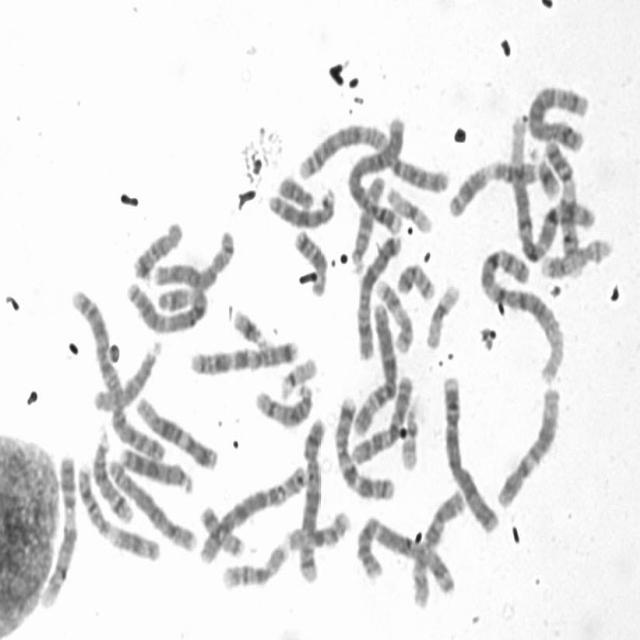A1: (476, 240, 567, 385), (506, 108, 589, 264)
A2: (65, 281, 169, 463), (295, 118, 452, 194)
A3: (354, 509, 458, 598), (122, 275, 210, 335)
B4: (438, 368, 502, 534), (344, 112, 407, 246)
B5: (294, 410, 328, 585), (526, 79, 592, 154)
C10: (408, 484, 467, 611), (349, 368, 416, 466)
C11: (73, 459, 164, 563), (444, 153, 540, 220)
C12: (493, 379, 564, 512), (132, 389, 220, 472)
C6: (196, 460, 310, 566), (348, 294, 398, 438)
C7: (331, 389, 398, 503), (186, 333, 301, 377)
C8: (104, 451, 200, 554), (150, 226, 236, 290)
C9: (37, 449, 81, 611), (540, 135, 584, 273)
D13: (116, 442, 195, 495), (266, 181, 336, 230)
D14: (89, 420, 135, 525), (251, 378, 315, 430)
D15: (91, 336, 164, 414), (346, 169, 387, 272)
E16: (220, 538, 292, 592), (282, 506, 352, 554)
E17: (536, 232, 614, 280), (372, 275, 415, 355)
E18: (129, 216, 185, 280), (290, 224, 330, 298)
F19: (422, 277, 462, 351), (383, 182, 435, 236)
F20: (195, 500, 246, 559), (394, 258, 438, 302)
G21: (229, 302, 271, 351), (533, 149, 562, 200)
G22: (276, 351, 320, 399), (398, 397, 421, 472)
X: (351, 229, 403, 364)
Y: (275, 169, 316, 211)
